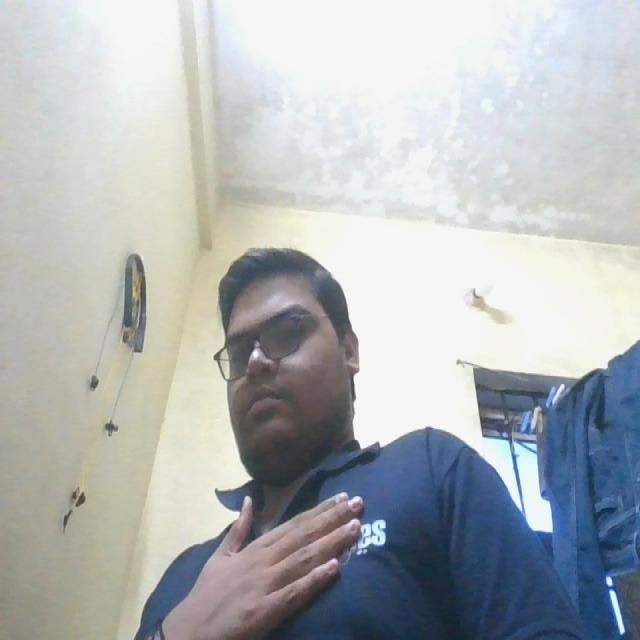Please: (182, 484, 373, 636)
